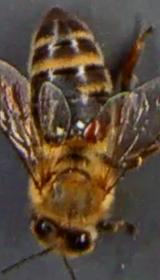varroa_mite: (81, 108, 106, 138)
